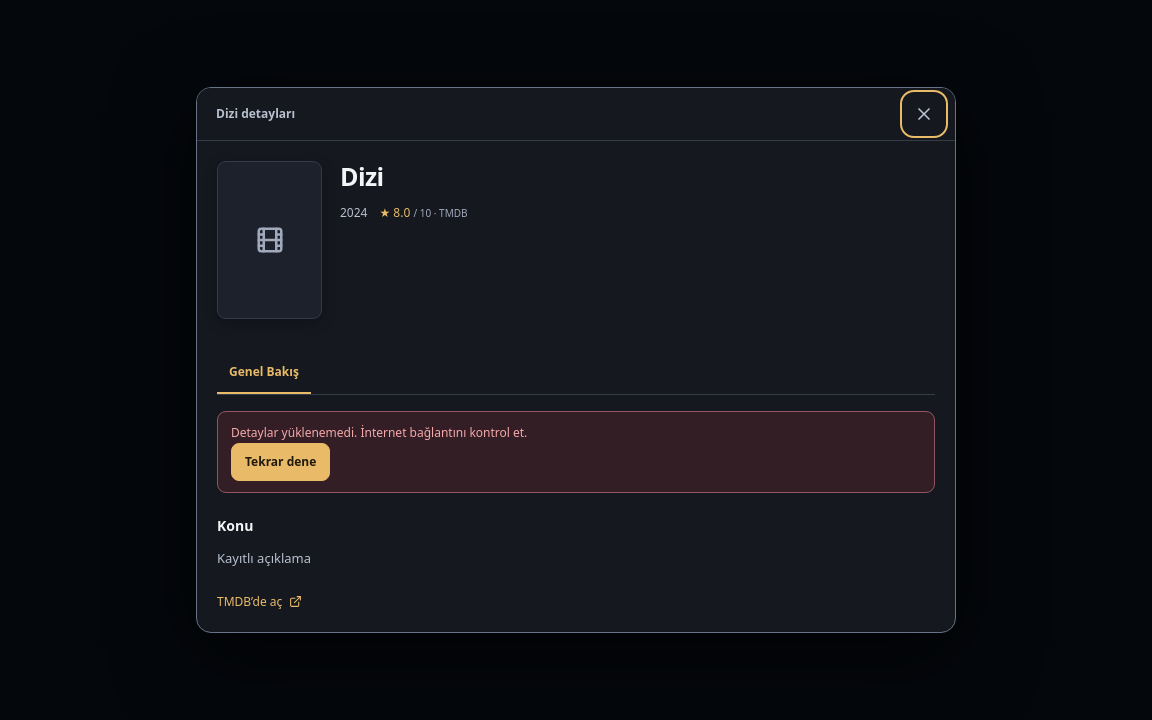
Test: hatada kayıtlı açıklamayı korur ve tekrar deneyebilir
Expected: the message "Detaylar yüklenemedi. İnternet bağlantını kontrol et. Tekrar dene" is shown, [217, 411, 935, 492]
Expected: the text "Kayıtlı açıklama" is shown, [217, 548, 311, 566]
Step 1. Click the button "Tekrar dene" → coordinates (281, 462), box [231, 443, 330, 480]
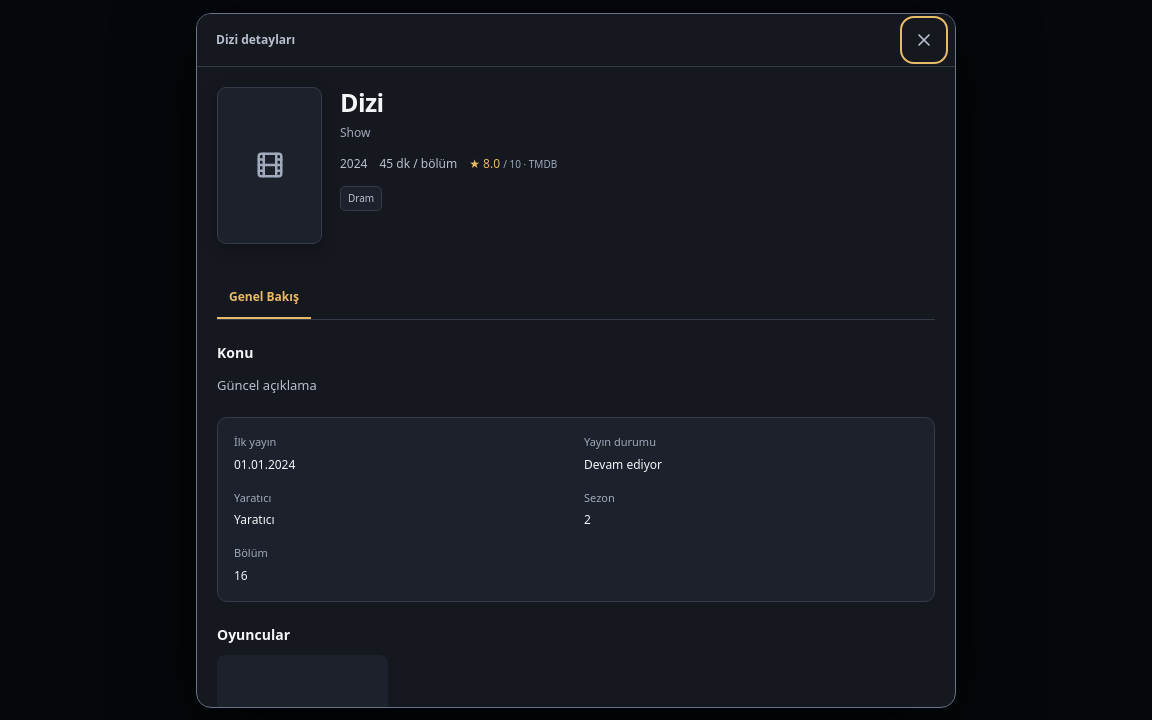
Expected: the text "Güncel açıklama" is shown, [217, 376, 317, 394]
